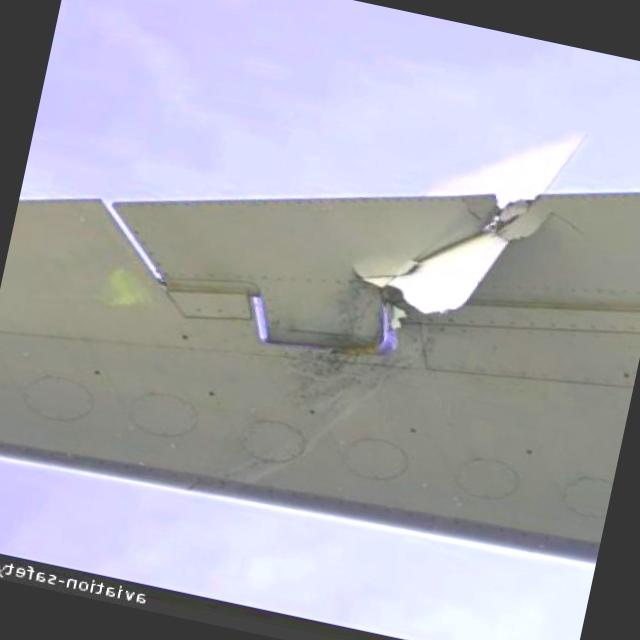crack: (343, 157, 547, 330)
